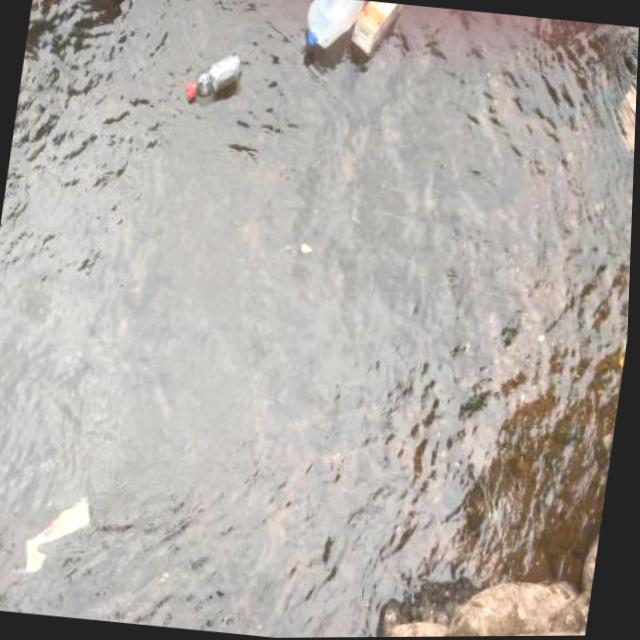Cardboard: (344, 0, 407, 65), (65, 0, 139, 9)
Paper: (607, 79, 638, 162)
Plastic: (17, 483, 106, 586), (294, 0, 368, 64), (181, 45, 249, 111)
